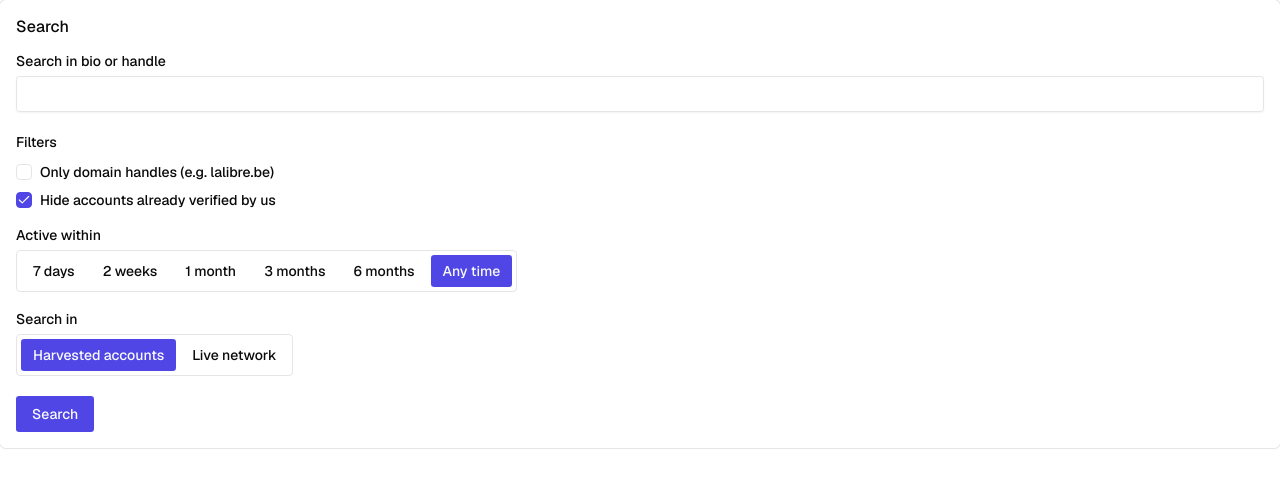
Test: SearchForm › disables and clears the activity-timeframe control when the live network scope is selected
The image size is (1280, 490).
What coordinates should you click on to do the following:
click the button "1 month"
I would click on:
 (211, 271)
Its box is [173, 255, 248, 287].
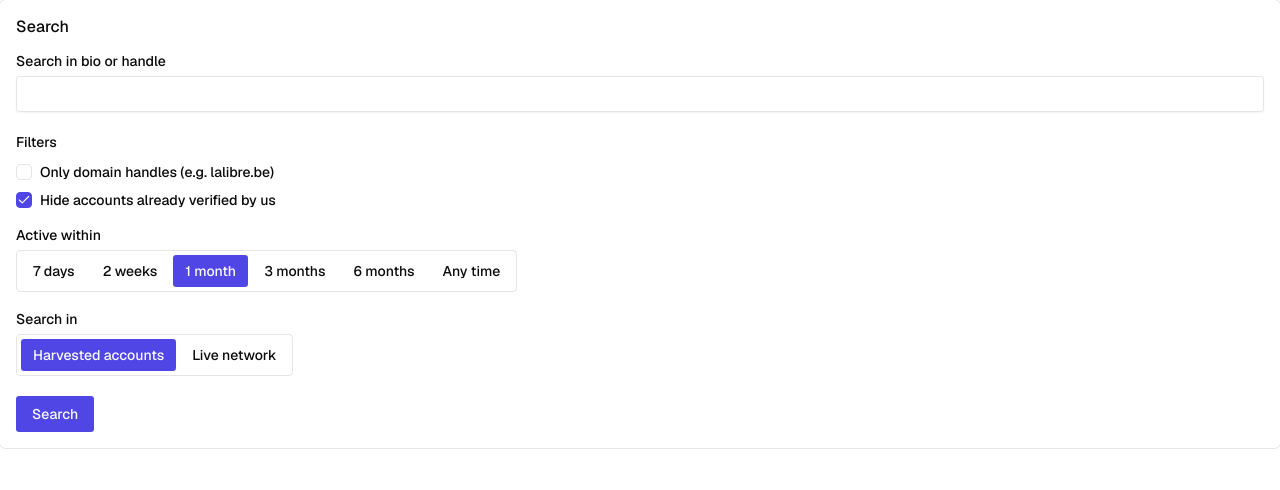
What coordinates should you click on to do the following:
click the button "Live network"
I would click on:
 (234, 355)
Its box is [180, 339, 288, 371].
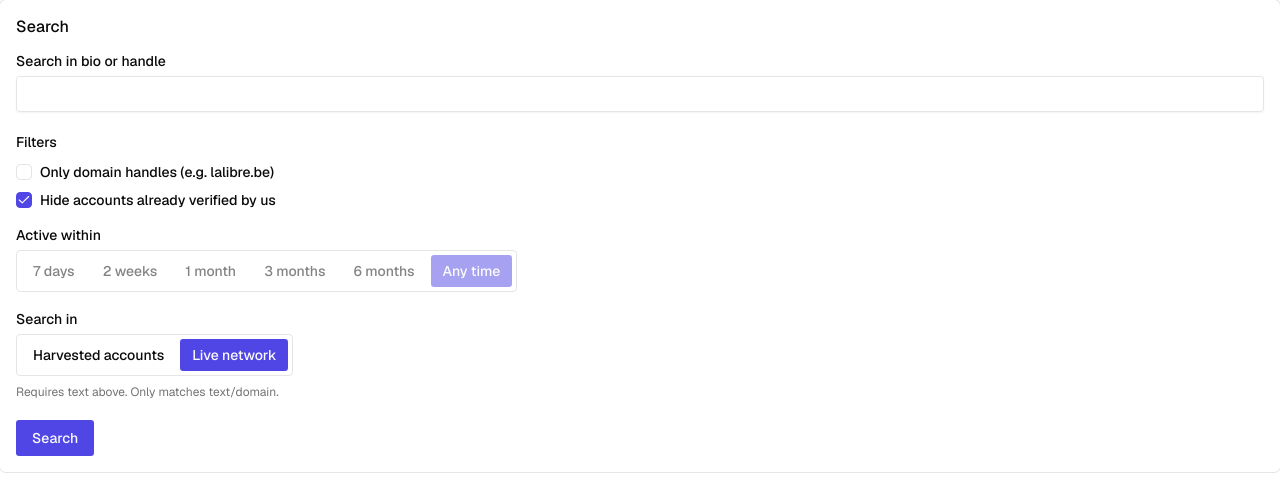
Now the button "1 month" is disabled, box [173, 255, 248, 287]
